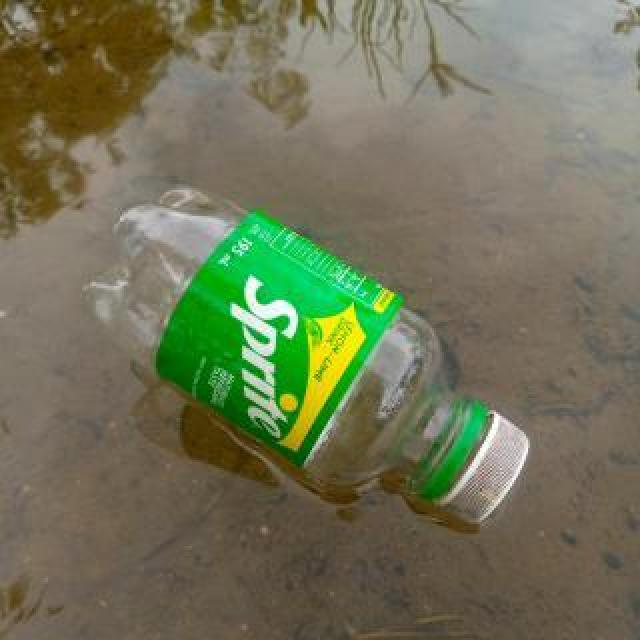bottle: (81, 180, 531, 528)
